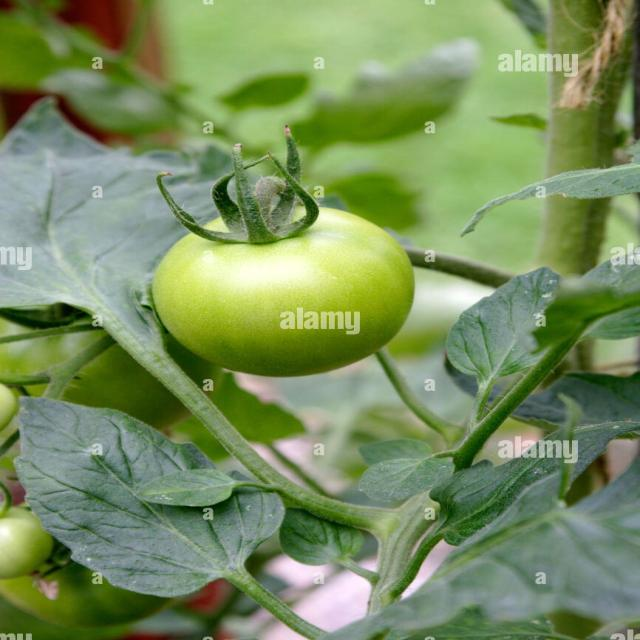yesil: (155, 182, 426, 391)
